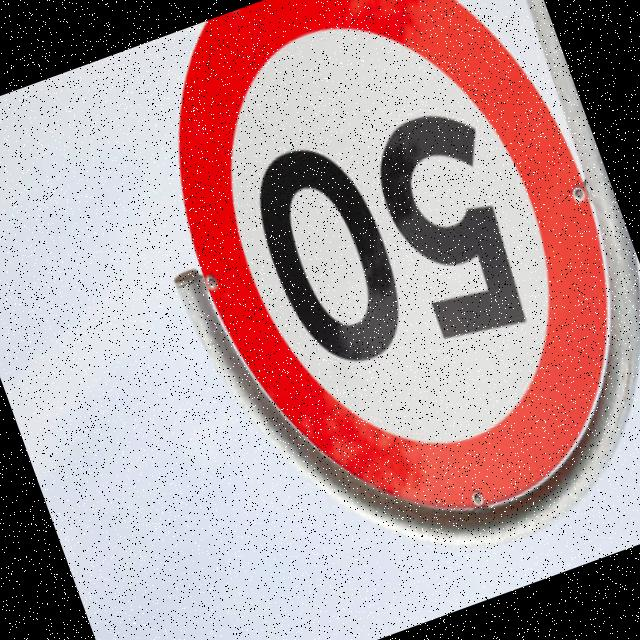speed_limit_50: (117, 0, 640, 593)
